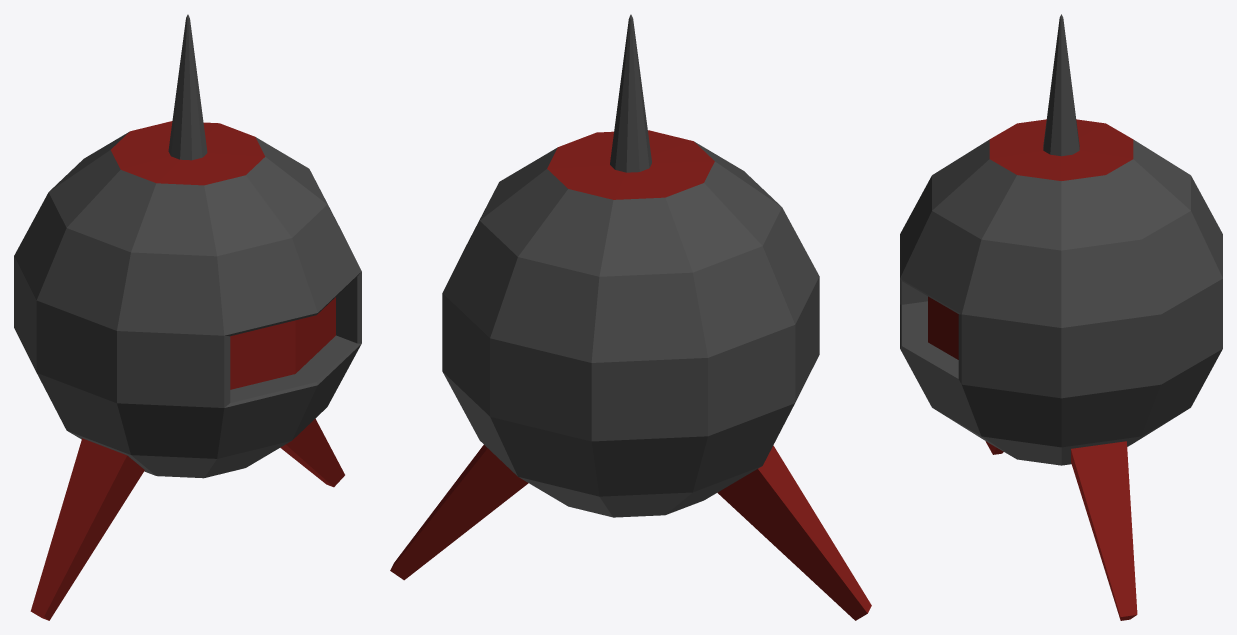
File: bot.fbx
3 renders of one model, left to right at view 1: azimuth 30°, elevation 25°; view 2: azimuth 150°, elevation 25°; view 3: azimuth 270°, elevation 25°, orthographic. The views are drawn at different scales.
Parts seen in each view (by area): view 1: Sphere; view 2: Sphere; view 3: Sphere.
Boxes of the visible parts, bbox=[...] form: Sphere: bbox=[14, 14, 361, 620]; Sphere: bbox=[390, 14, 871, 620]; Sphere: bbox=[900, 14, 1222, 620].
Bounding box in the file's own units: 242 × 332 × 185.
